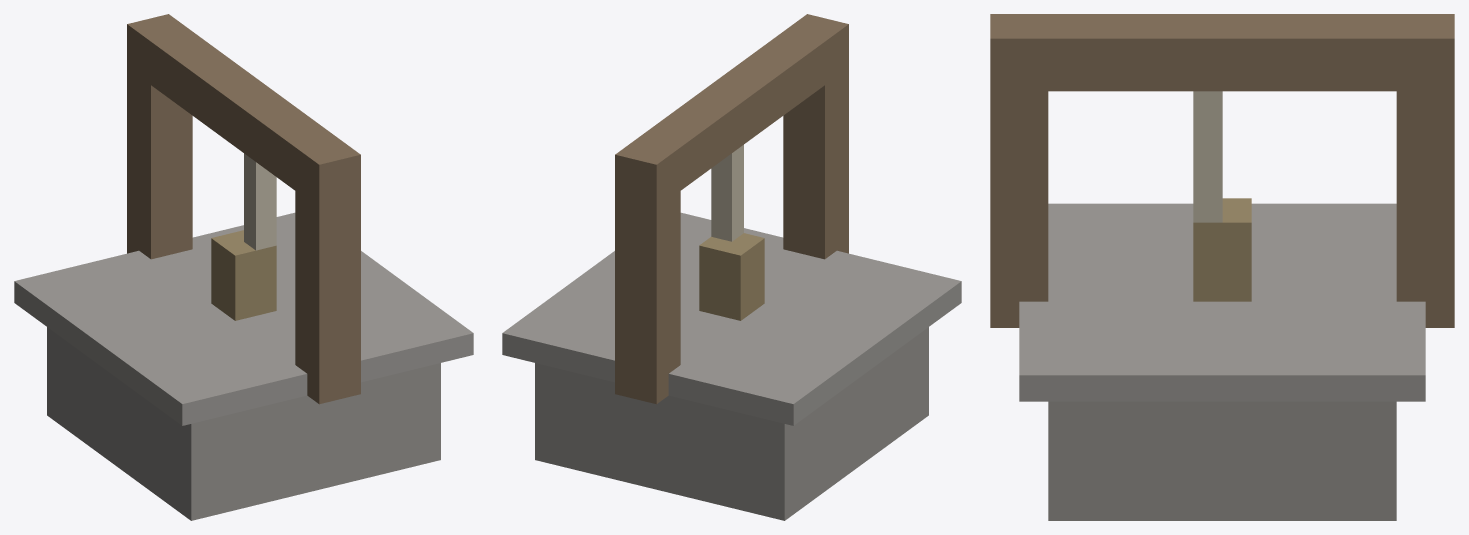
The model's file is pozo_agua_01.glb.
3 renders of one model, left to right at view 1: azimuth 30°, elevation 25°; view 2: azimuth 150°, elevation 25°; view 3: azimuth 270°, elevation 25°, orthographic. The views are drawn at different scales.
Parts seen in each view (by area): view 1: pozo_agua_01; view 2: pozo_agua_01; view 3: pozo_agua_01.
Boxes of the visible parts, <box> form: pozo_agua_01: <box>14,14,473,520</box>; pozo_agua_01: <box>502,14,961,520</box>; pozo_agua_01: <box>990,14,1454,520</box>.
Bounding box in the file's own units: 1.4 × 1.6 × 1.6.
